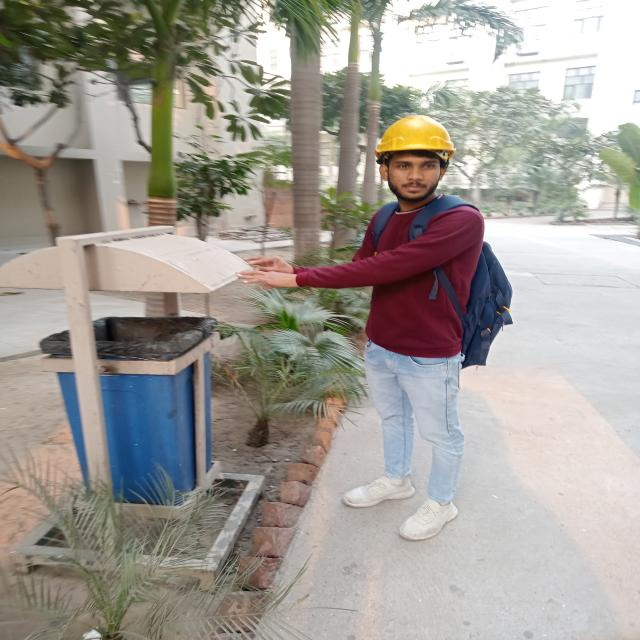no jacket: (263, 112, 499, 540)
